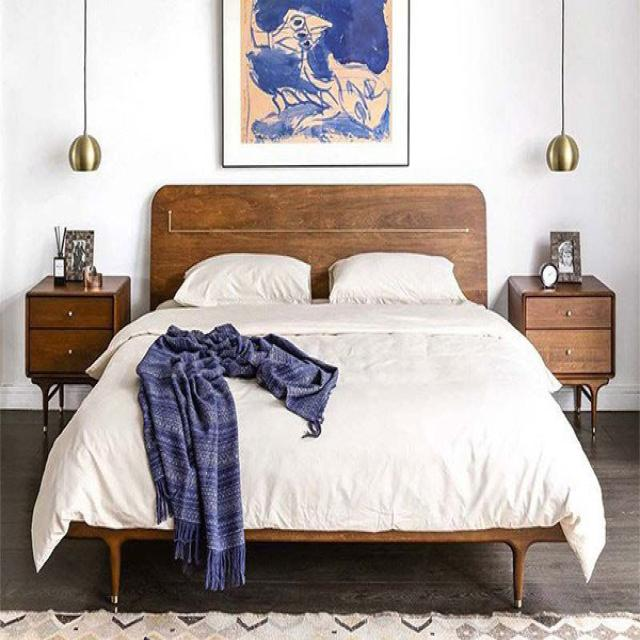bed vintage: (33, 180, 611, 614)
